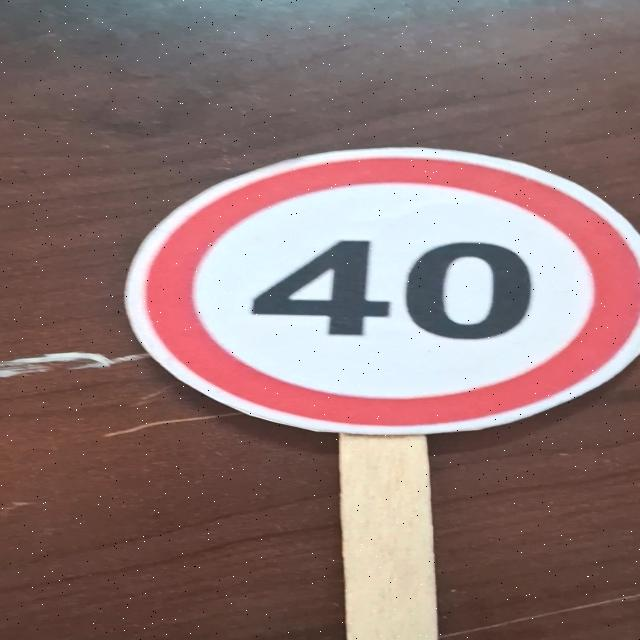Speed40: (111, 134, 640, 438)
